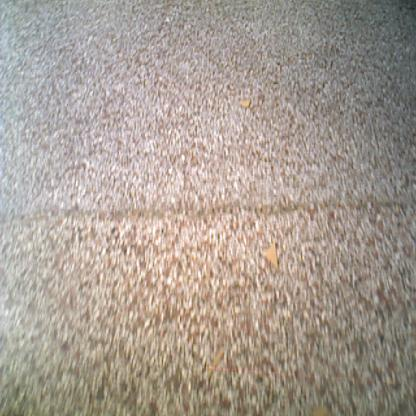dirty: (258, 239, 280, 272), (206, 348, 226, 382), (308, 404, 332, 416), (237, 98, 252, 109)
